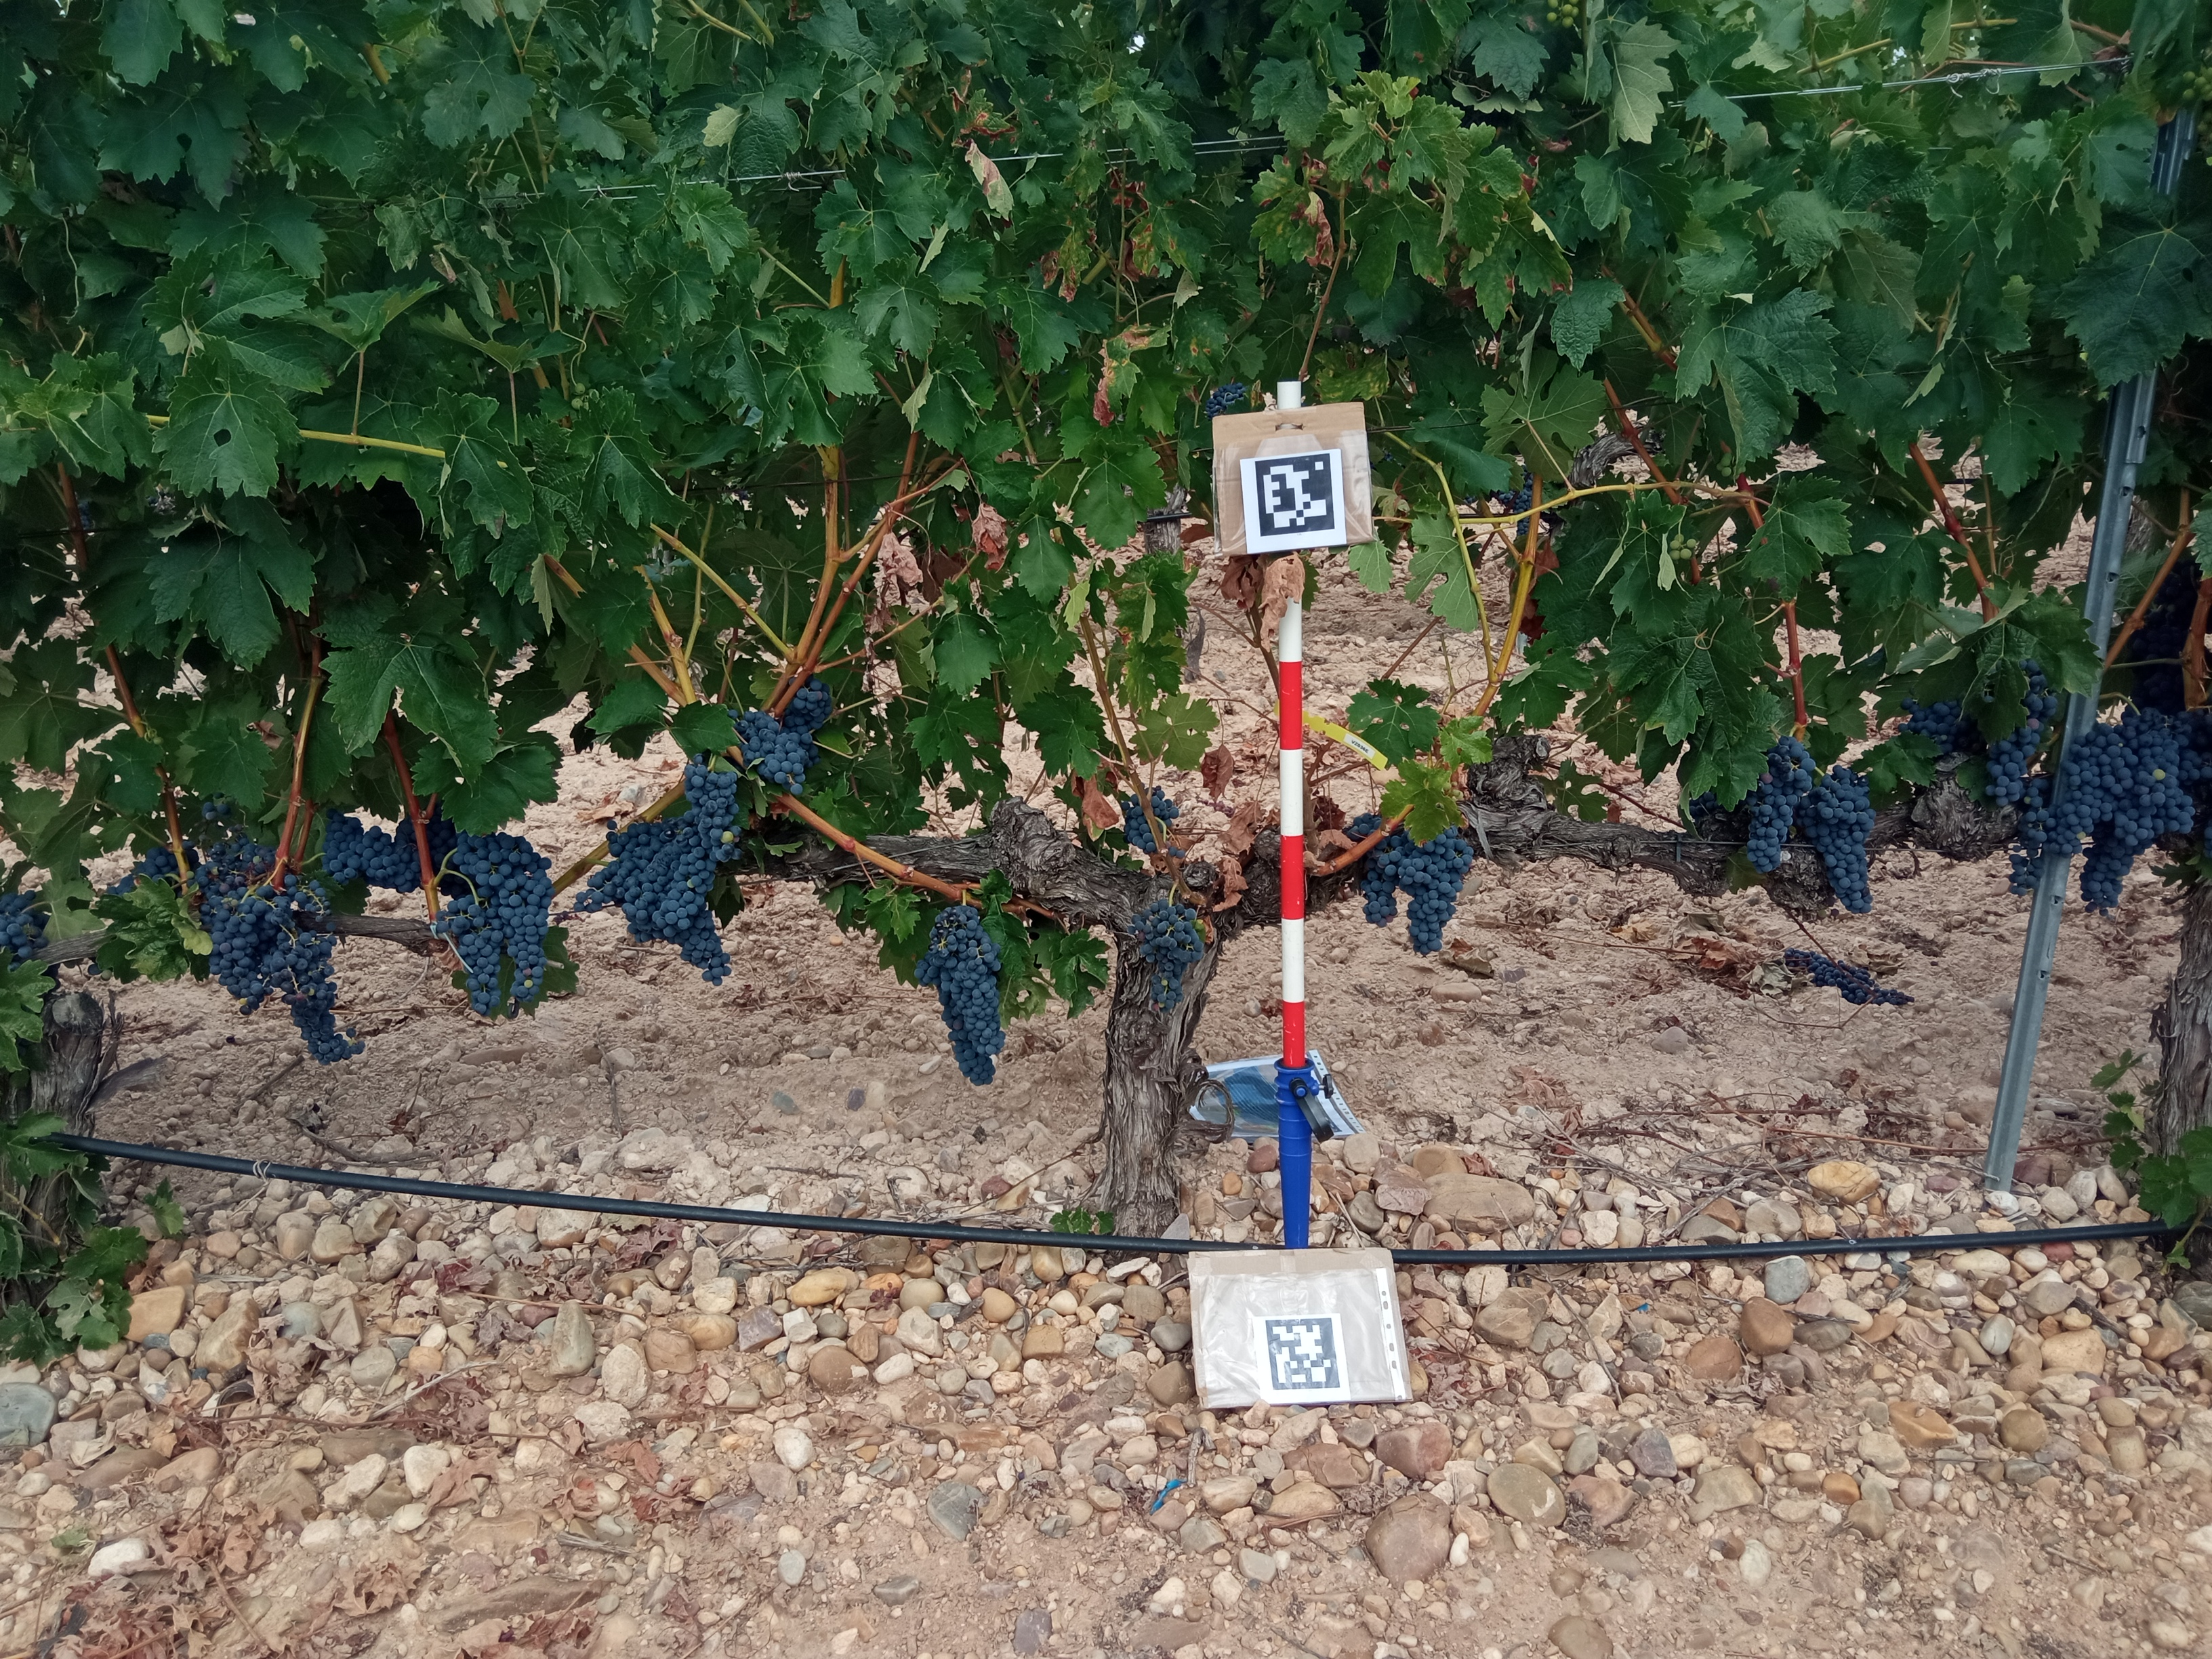grapes: (197, 838, 273, 1011), (275, 927, 369, 1063), (914, 955, 1001, 1086), (935, 910, 1010, 1058), (2114, 708, 2202, 835), (596, 824, 709, 911), (1818, 763, 1881, 915), (1747, 737, 1815, 877), (1125, 897, 1207, 1011), (1402, 843, 1479, 957), (324, 807, 418, 896), (434, 894, 503, 1012), (726, 706, 815, 796), (2059, 718, 2123, 826), (683, 756, 747, 863), (510, 831, 549, 1009), (0, 884, 57, 967), (2081, 840, 2144, 917), (1127, 781, 1188, 859), (674, 910, 733, 986), (1986, 742, 2050, 812), (1897, 692, 1966, 753), (2022, 657, 2066, 742), (1362, 845, 1406, 929), (455, 829, 509, 892), (113, 843, 195, 882), (273, 870, 334, 920), (2017, 814, 2085, 859), (782, 681, 831, 727), (622, 906, 674, 945), (571, 875, 611, 915), (2006, 857, 2047, 894), (425, 807, 453, 859), (1794, 786, 1818, 842), (1430, 826, 1477, 852), (200, 793, 232, 821), (1350, 807, 1381, 833), (1688, 793, 1721, 816)
